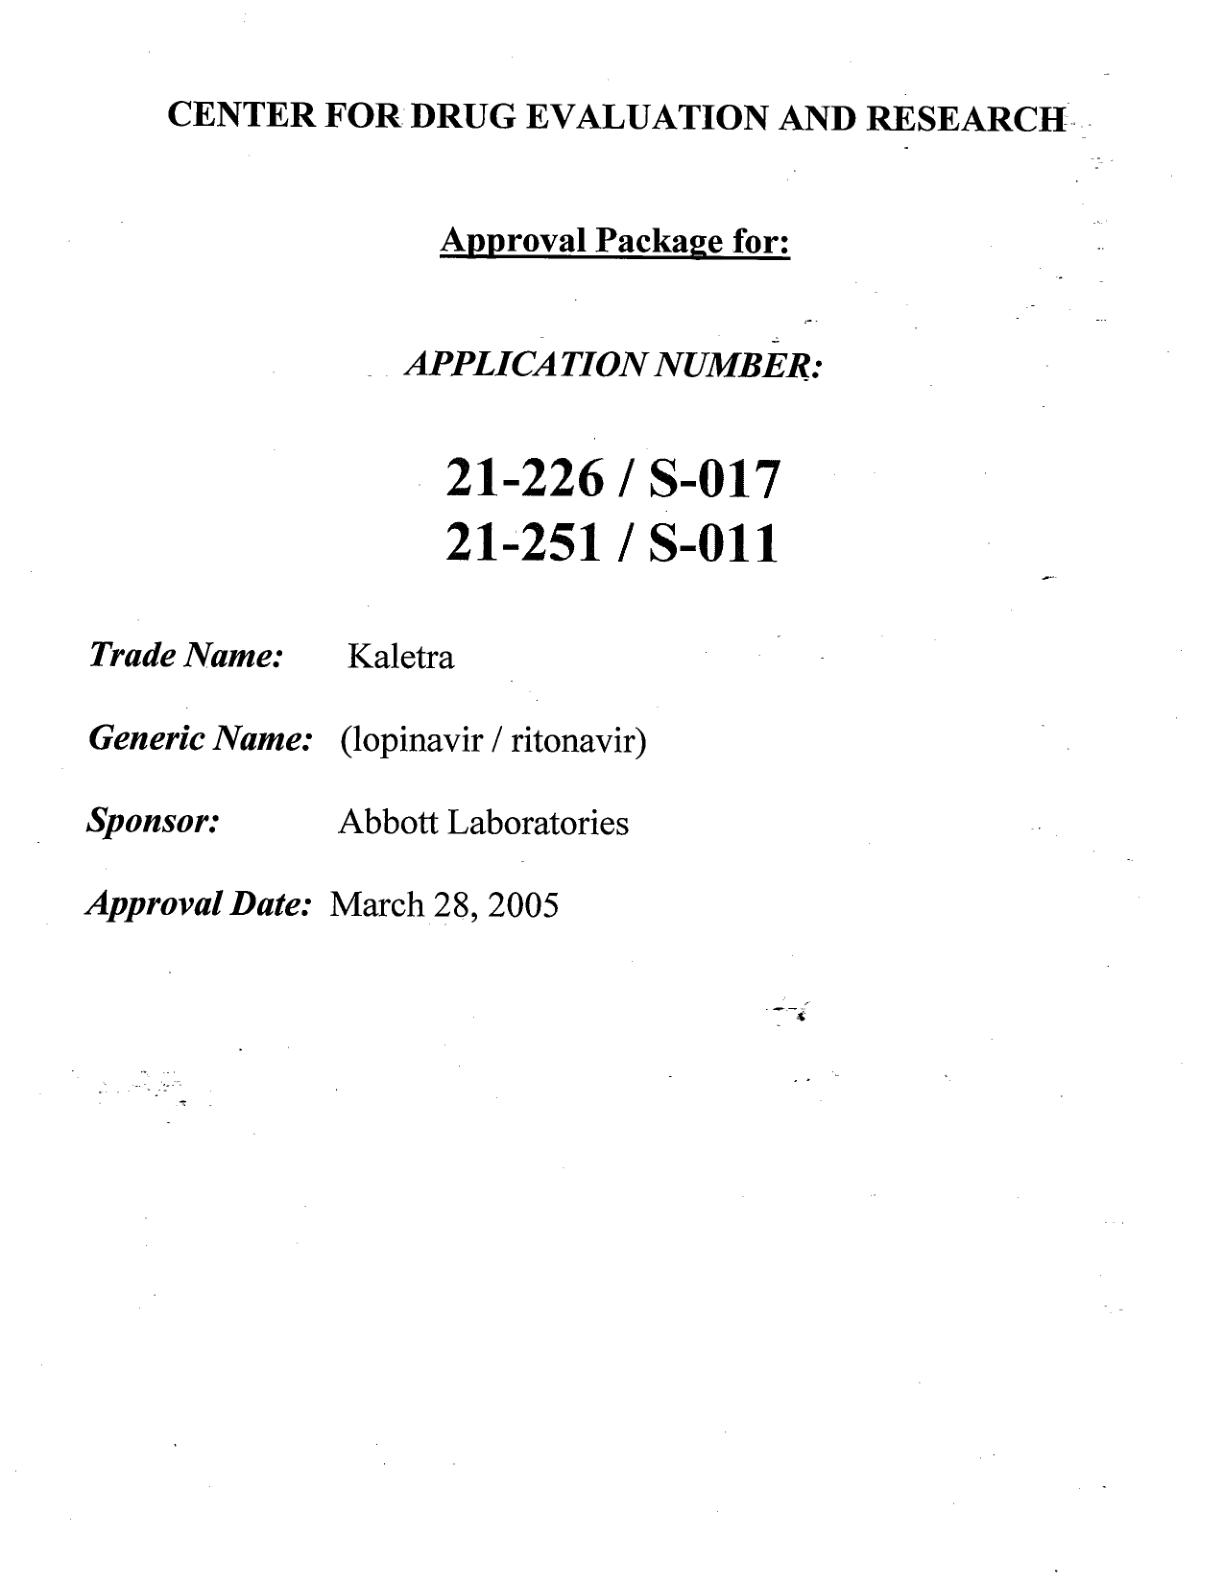nolines: (78, 636, 649, 921)
